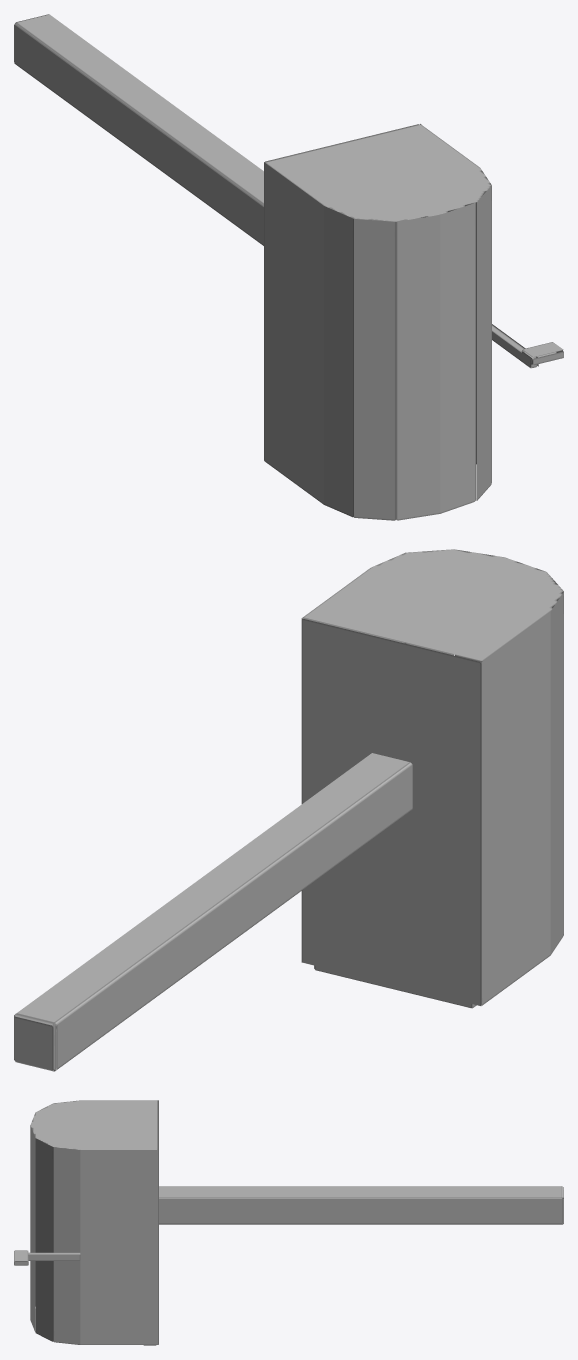
Rendered from pz_mailbox_residential.obj.
3 renders of one model, top to bottom at view 1: azimuth 30°, elevation 25°; view 2: azimuth 150°, elevation 25°; view 3: azimuth 270°, elevation 25°, orthographic. The views are drawn at different scales.
Parts seen in each view (by area): view 1: pz_mailbox_residential_|_rounded_residential_mailbox_body, pz_mailbox_residential_|_wood_support_post, pz_mailbox_residential_|_red_signal_flag_staff, pz_mailbox_residential_|_red_flag; view 2: pz_mailbox_residential_|_rounded_residential_mailbox_body, pz_mailbox_residential_|_wood_support_post, pz_mailbox_residential_|_front_door_lower_seam; view 3: pz_mailbox_residential_|_rounded_residential_mailbox_body, pz_mailbox_residential_|_wood_support_post, pz_mailbox_residential_|_red_signal_flag_staff.
Boxes of the visible parts, <box> form: pz_mailbox_residential_|_rounded_residential_mailbox_body: <box>264,124,491,520</box>; pz_mailbox_residential_|_wood_support_post: <box>14,14,263,245</box>; pz_mailbox_residential_|_red_signal_flag_staff: <box>492,324,538,368</box>; pz_mailbox_residential_|_red_flag: <box>521,342,563,364</box>; pz_mailbox_residential_|_rounded_residential_mailbox_body: <box>301,549,563,1005</box>; pz_mailbox_residential_|_wood_support_post: <box>14,753,412,1071</box>; pz_mailbox_residential_|_front_door_lower_seam: <box>314,965,476,1008</box>; pz_mailbox_residential_|_rounded_residential_mailbox_body: <box>30,1100,158,1344</box>; pz_mailbox_residential_|_wood_support_post: <box>159,1186,563,1224</box>; pz_mailbox_residential_|_red_signal_flag_staff: <box>28,1252,80,1260</box>.
Bounding box in the file's own units: 0.225 × 0.365 × 0.869.
Materials: 1 (1 with a texture image).
